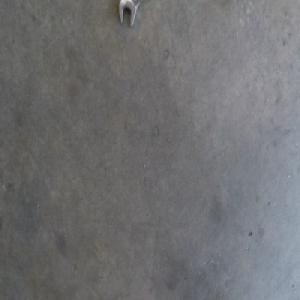Wrench: (117, 0, 144, 27)
